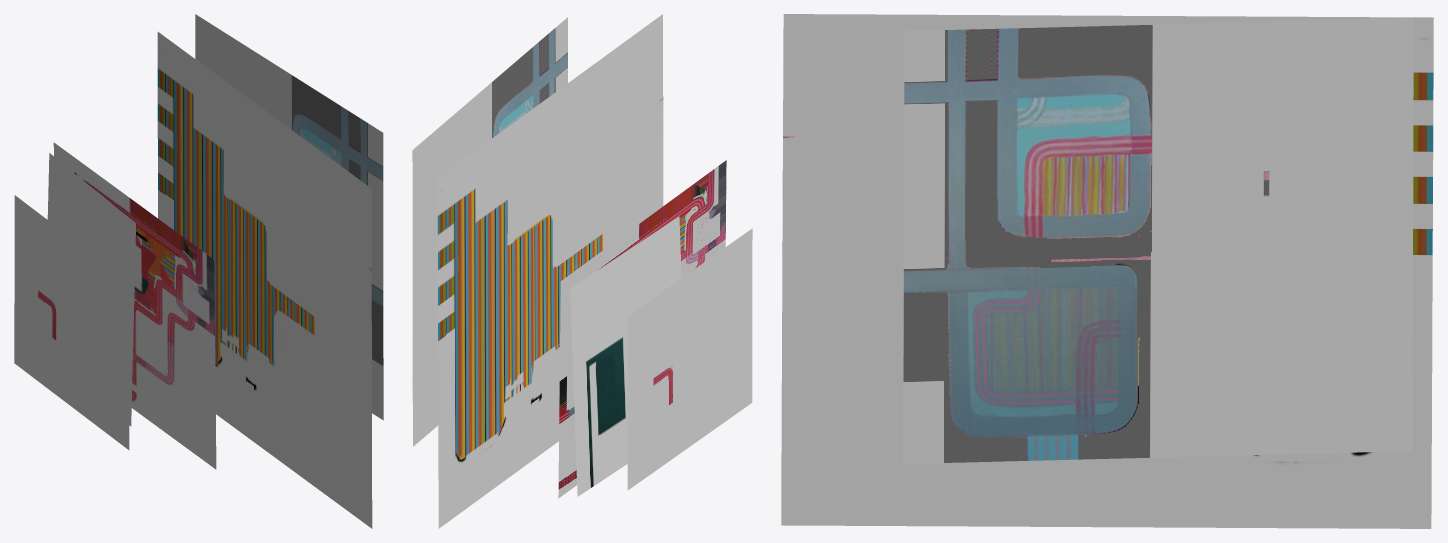
Rendered from ferrante.dae.
3 views of the same model, side by side, from view 1: azimuth 30°, elevation 25°; view 2: azimuth 150°, elevation 25°; view 3: azimuth 270°, elevation 25° (orthographic). The views are drawn at different scales.
Visible parts, largest first — view 1: Plane_003, Plane_002, Plane, Plane_004, Plane_001; view 2: Plane_003, Plane_002, Plane_004, Plane_001, Plane; view 3: Plane_004, Plane_003.
Part boxes in pixels (x1,y1,x2,y2): Plane_003: (157, 32, 372, 528); Plane_002: (14, 195, 129, 449); Plane: (53, 142, 216, 469); Plane_004: (195, 14, 383, 420); Plane_001: (47, 153, 135, 426); Plane_003: (437, 14, 663, 528); Plane_002: (627, 228, 752, 490); Plane_004: (412, 17, 567, 446); Plane_001: (570, 216, 681, 496); Plane: (558, 160, 726, 498); Plane_004: (903, 18, 1413, 463); Plane_003: (781, 14, 1433, 528).
Bounding box in the file's own units: 7.77 × 13.5 × 12.2.
5 materials, 5 textured.
